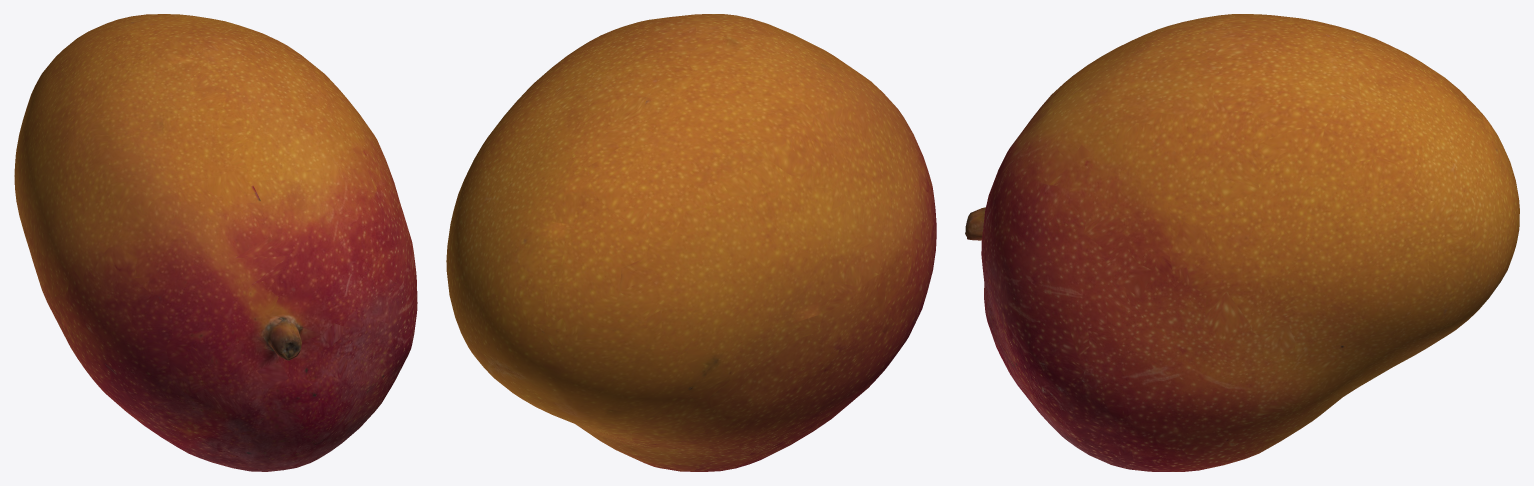
File: mango-v1.glb
3 renders of one model, left to right at view 1: azimuth 30°, elevation 25°; view 2: azimuth 150°, elevation 25°; view 3: azimuth 270°, elevation 25°, orthographic. The views are drawn at different scales.
Visible parts, largest first — view 1: Mango; view 2: Mango; view 3: Mango.
Boxes of the visible parts, left/top/right/bottom form: Mango: left=14, top=14, right=417, bottom=471; Mango: left=446, top=14, right=936, bottom=471; Mango: left=965, top=14, right=1519, bottom=471.
Size of the model in its own units: 0.063 by 0.0724 by 0.0875.
Materials: 1 (1 with a texture image).
